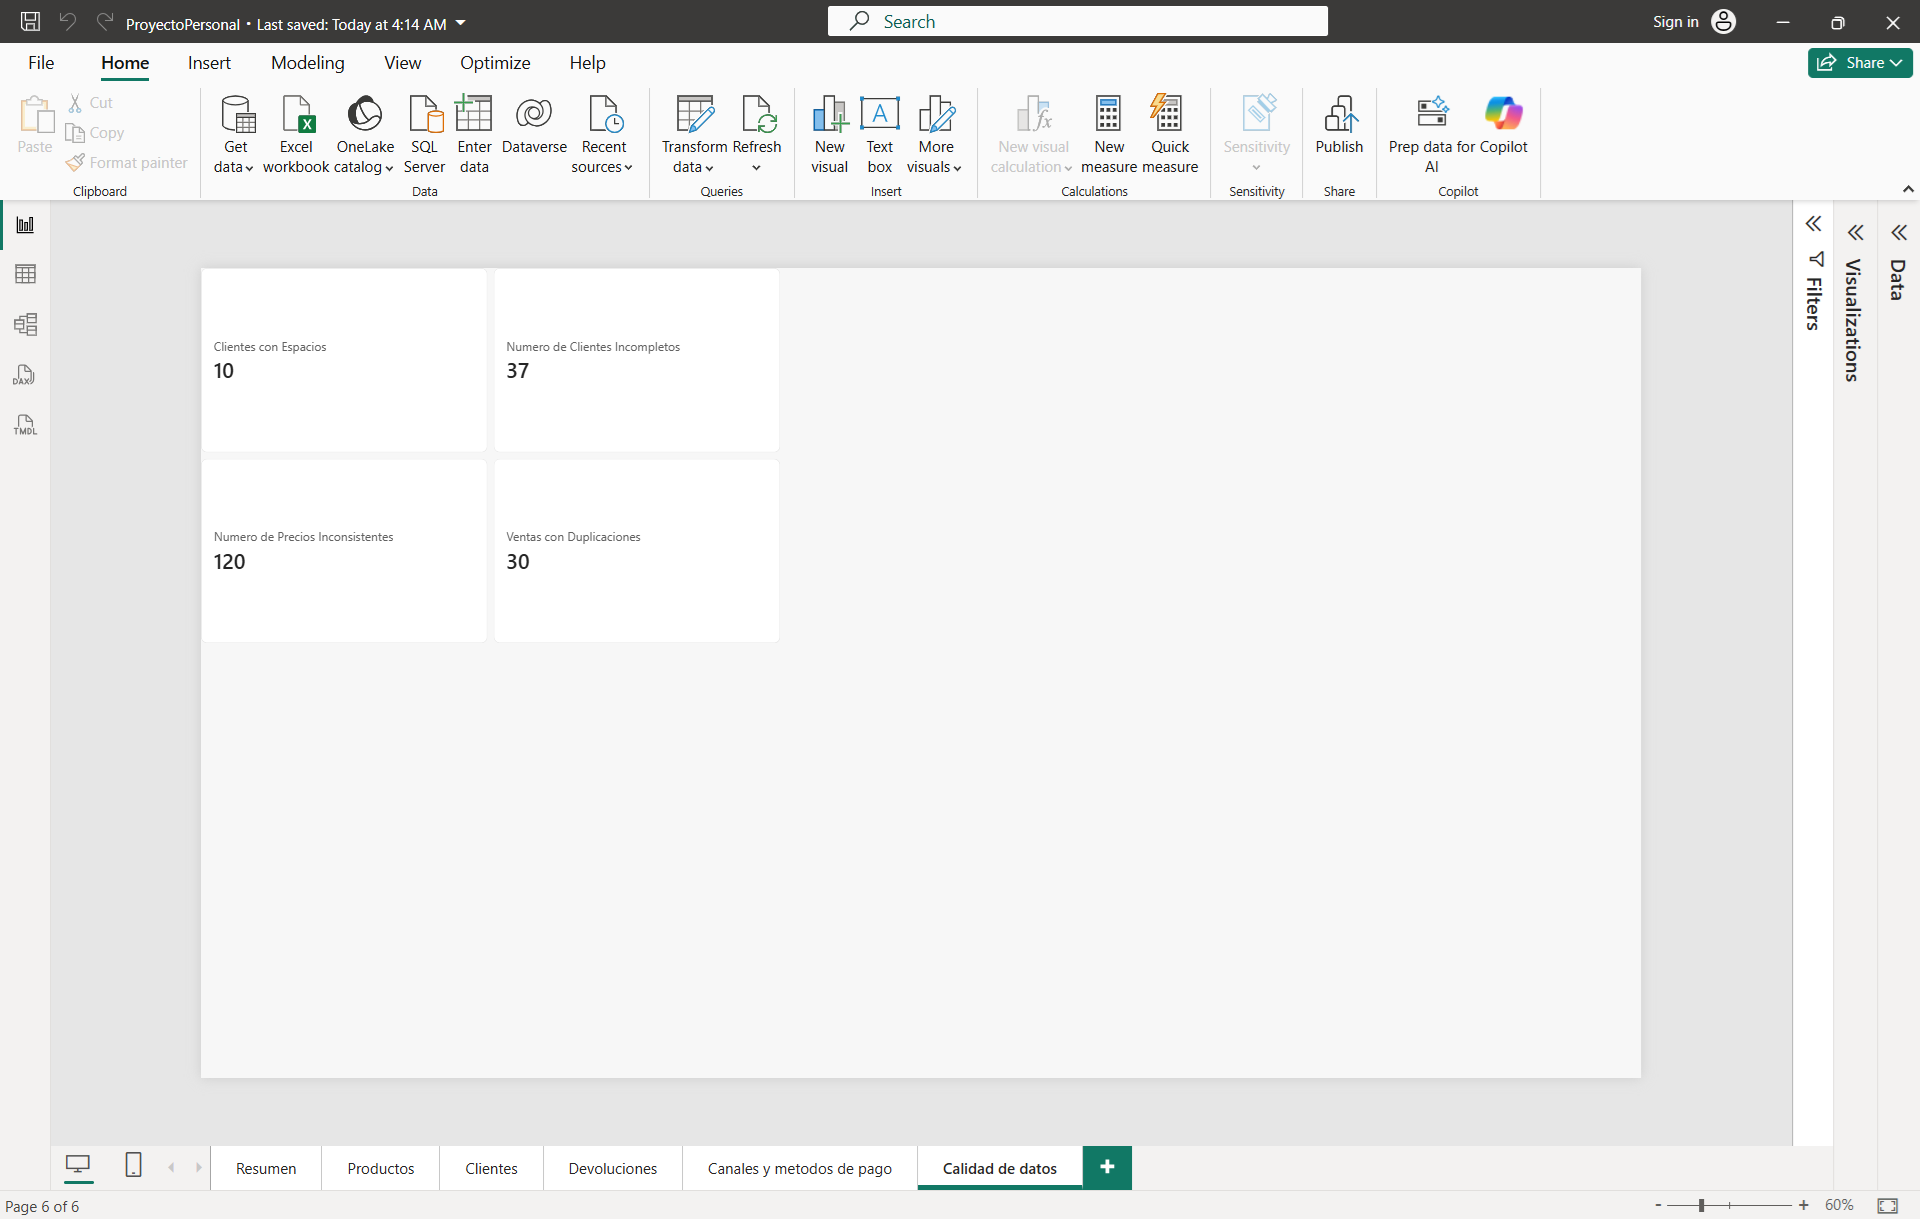

This screenshot's page, from the dashboard's own definition file:
{"tool":"powerbi","page":{"name":"Calidad de datos","canvas":[1920,1080],"ordinal":5},"visuals":[{"type":"cardVisual","fields":{"Data":["Sum(Reporte_Calidad.ClientesConEspacios)","Sum(Reporte_Calidad.NumeroDeClientesIncompletos)","Sum(Reporte_Calidad.NumeroDePreciosInconsistentes)","Sum(Reporte_Calidad.VentasConDuplicacion)"]},"box":[0,0,772.7,500.6],"z":0}]}

Visuals, with their boxes on the page's 1920x1080 design canvas (x1, y1, x2, y2). These are canvas units, not pixel positions in the 1920x1219 screenshot, which may show the page scaled, cropped or inside an application window:
cardVisual - Sum(Reporte_Calidad.ClientesConEspacios) x Sum(Reporte_Calidad.NumeroDeClientesIncompletos): rect(0, 0, 773, 501)
